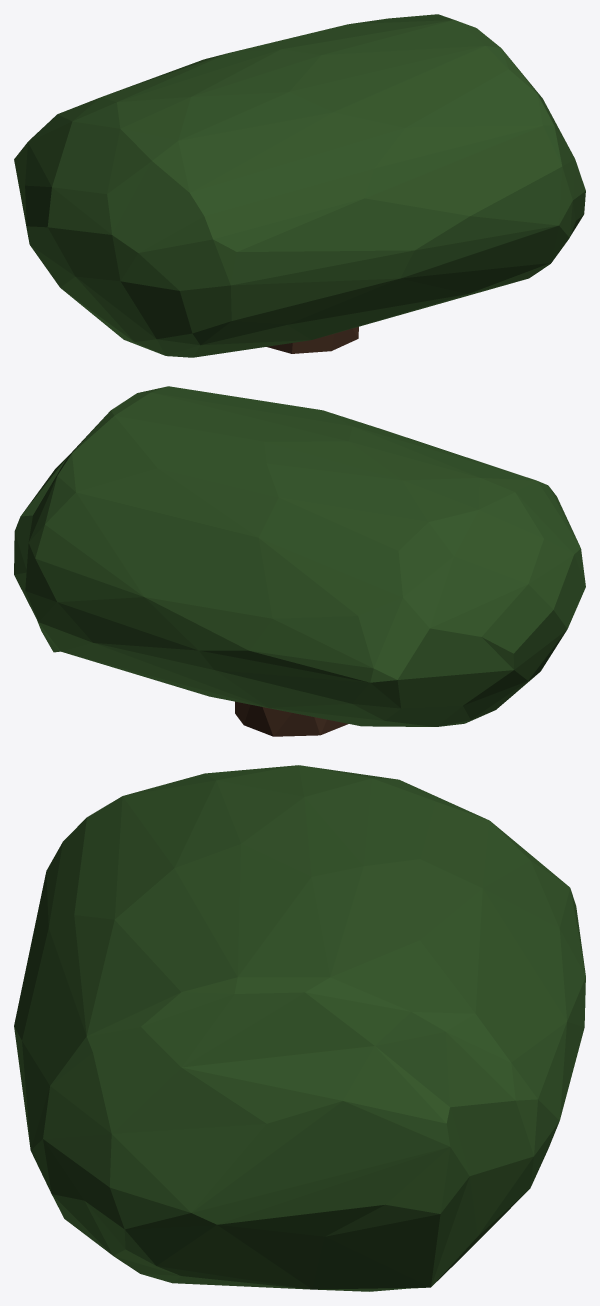
File: bush1.fbx
The picture shows the model from 3 angles, top to bottom: view 1: azimuth 30°, elevation 25°; view 2: azimuth 150°, elevation 25°; view 3: azimuth 270°, elevation 25°; orthographic projection. The views are drawn at different scales.
Parts seen in each view (by area): view 1: Cylinder, Cylinder.001; view 2: Cylinder, Cylinder.001; view 3: Cylinder.
Boxes of the visible parts, x1,y1,x2,y2 form: Cylinder: (14,14,585,357); Cylinder.001: (266,327,358,353); Cylinder: (14,386,585,726); Cylinder.001: (235,701,348,736); Cylinder: (14,765,585,1291).
Size of the model in its own units: 301 by 155 by 218.
